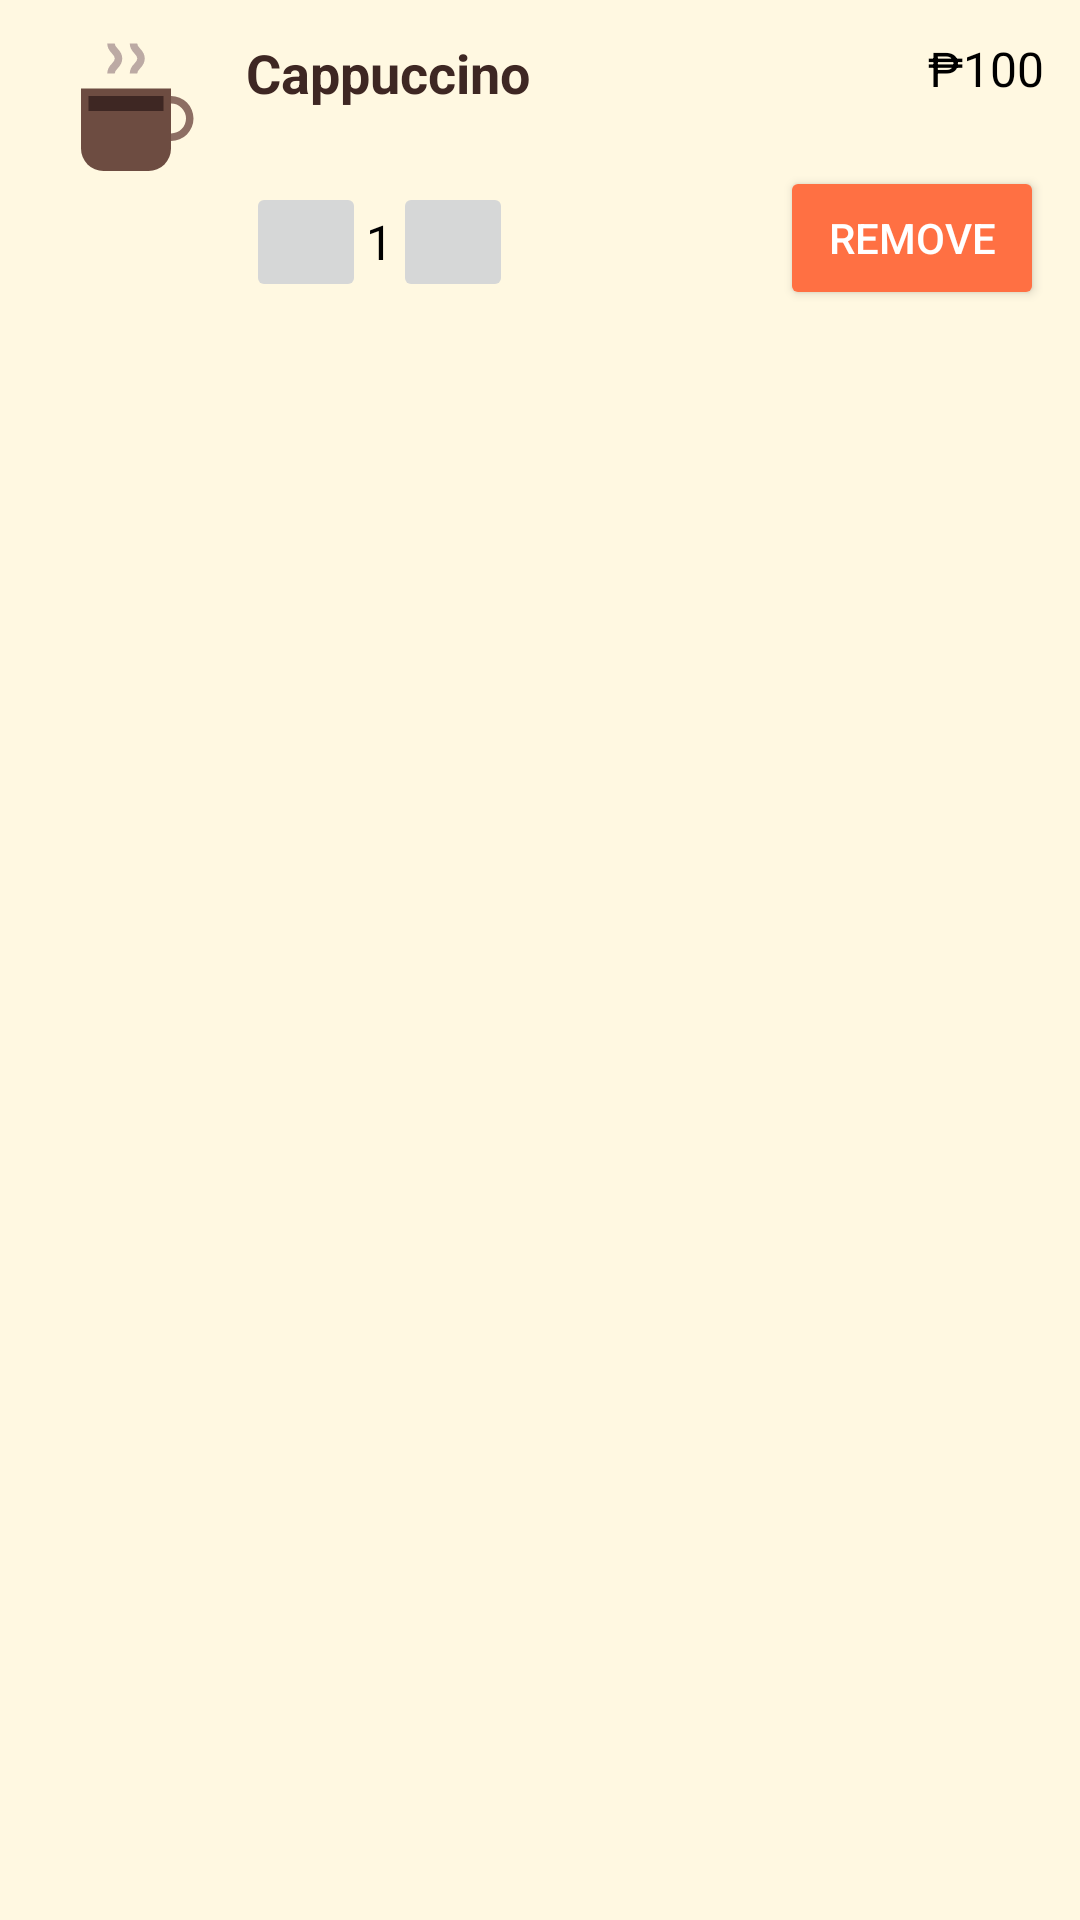

Screen size 1080*1920. Icon name, then its box in pixels as (x1, y1, x2, y2):
coffee: (81, 43, 194, 171)
